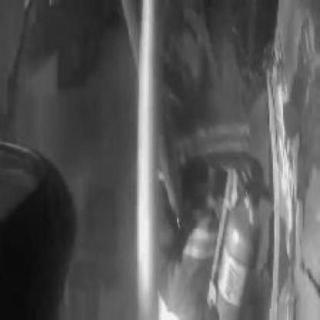other: (132, 4, 170, 306), (177, 35, 253, 162)
